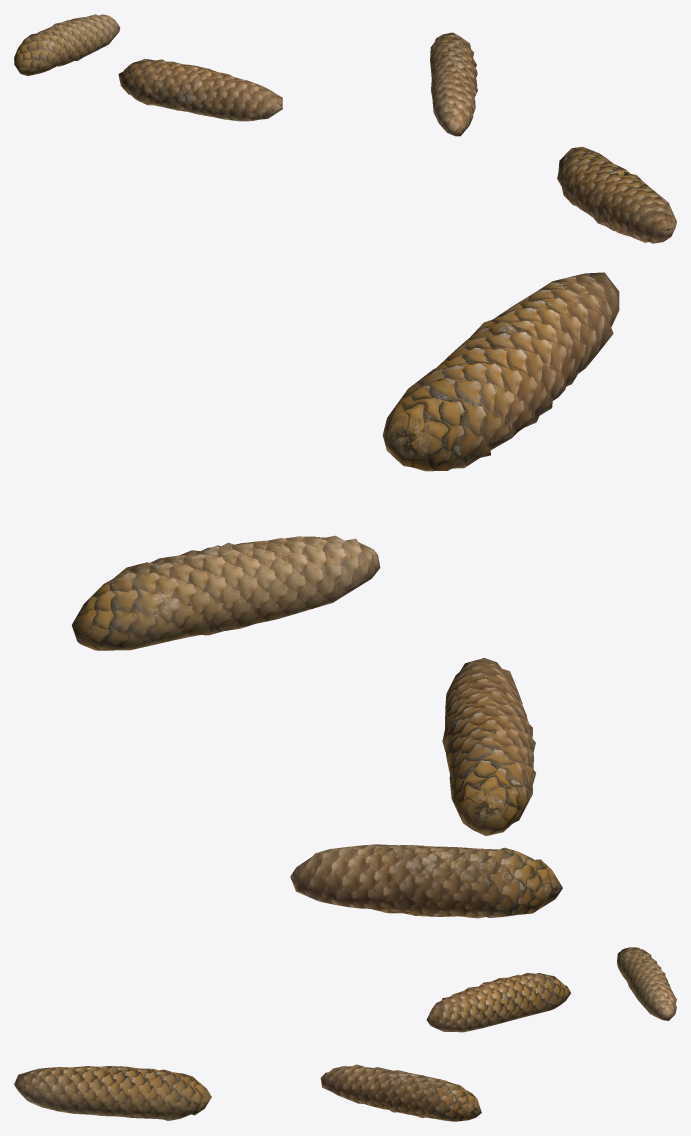
The model's file is PineconeGroup1.fbx.
3 views of the same model, one above another, from view 1: azimuth 30°, elevation 25°; view 2: azimuth 150°, elevation 25°; view 3: azimuth 270°, elevation 25° (orthographic). The views are drawn at different scales.
Parts seen in each view (by area): view 1: PineconeGroup1_LOD0; view 2: PineconeGroup1_LOD0; view 3: PineconeGroup1_LOD0.
Boxes of the visible parts, x1,y1,x2,y2 form: PineconeGroup1_LOD0: (14,14,676,243); PineconeGroup1_LOD0: (71,272,619,918); PineconeGroup1_LOD0: (14,947,676,1121).
Size of what is drawn, in the model's own units: 37.85 by 5.59 by 67.56.
